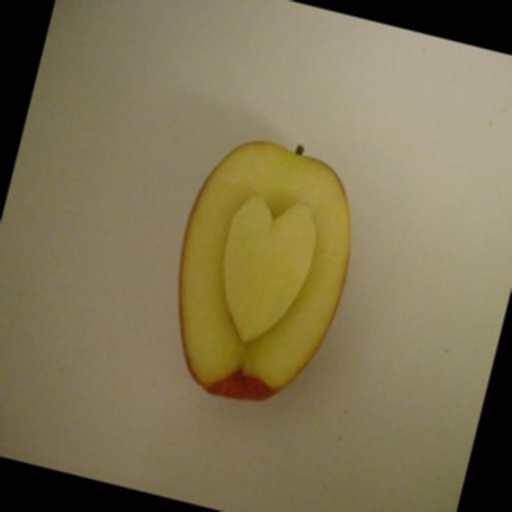fruit: (204, 140, 456, 512)
